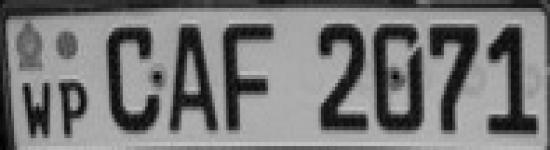0: (372, 14, 428, 139)
1: (481, 14, 541, 146)
2: (314, 12, 372, 139)
7: (426, 19, 481, 141)
A: (165, 22, 220, 137)
C: (97, 20, 164, 136)
F: (221, 18, 279, 136)
P: (57, 71, 92, 144)
W: (19, 74, 57, 146)
